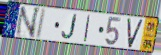5: (104, 16, 124, 47)
I: (34, 7, 48, 40), (83, 14, 92, 43)
J: (61, 13, 78, 41)
N: (14, 6, 42, 39)
V: (126, 18, 144, 49)
